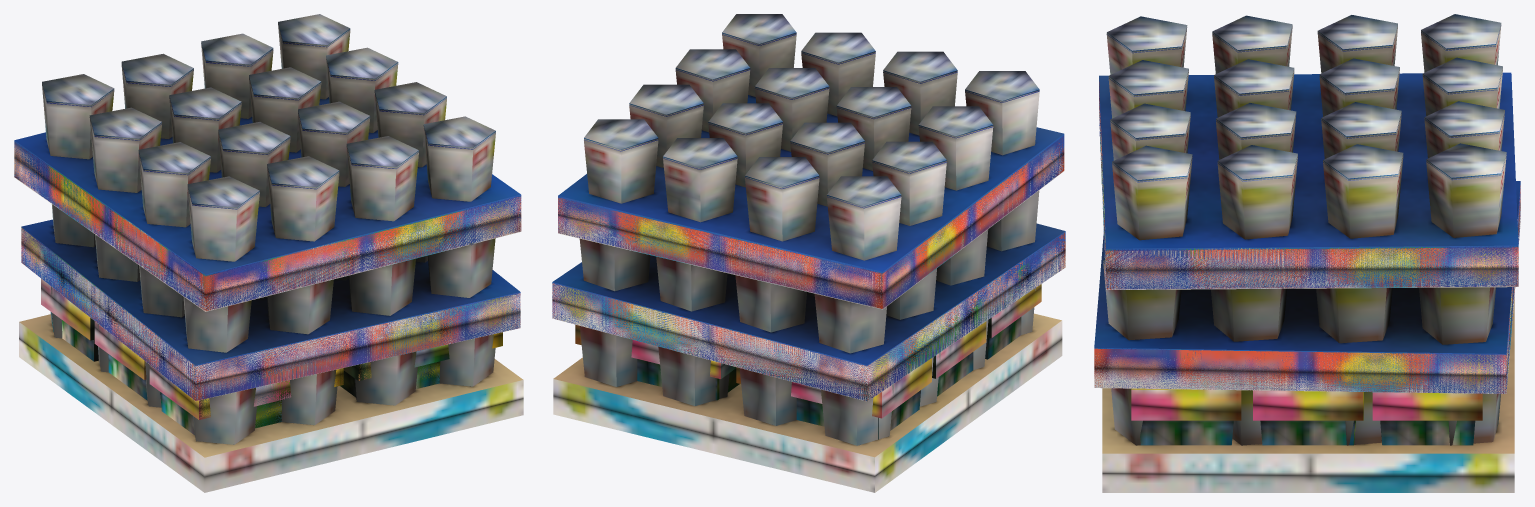
File: molkeprodukte_01.fbx
3 views of the same model, side by side, from view 1: azimuth 30°, elevation 25°; view 2: azimuth 150°, elevation 25°; view 3: azimuth 270°, elevation 25° (orthographic). The views are drawn at different scales.
Visible parts, largest first — view 1: molkedrink_01b, molkedrink_04b, molkedrink_02b, molkedrink_01a, molkedrink_03b, molkedrink_08b, molkedrink_06b, molkedrink_09b; view 2: molkedrink_01b, molkedrink_04b, molkedrink_02b, molkedrink_01a, molkedrink_03b, molkedrink_08b, molkedrink_06b, molkedrink_09b; view 3: molkedrink_04b, molkedrink_01b, molkedrink_02b, molkedrink_01a, molkedrink_08b, molkedrink_03b, molkedrink_06b.
Part boxes in pixels (<box>): molkedrink_01b: <box>14,24,521,444</box>; molkedrink_04b: <box>14,14,521,398</box>; molkedrink_02b: <box>14,42,521,400</box>; molkedrink_01a: <box>19,314,523,492</box>; molkedrink_03b: <box>14,30,521,400</box>; molkedrink_08b: <box>41,278,439,435</box>; molkedrink_06b: <box>21,23,520,400</box>; molkedrink_09b: <box>90,318,502,428</box>; molkedrink_01b: <box>552,35,1065,445</box>; molkedrink_04b: <box>552,14,1065,398</box>; molkedrink_02b: <box>552,102,1065,400</box>; molkedrink_01a: <box>553,313,1062,492</box>; molkedrink_03b: <box>558,34,1065,401</box>; molkedrink_08b: <box>575,284,1041,439</box>; molkedrink_06b: <box>560,33,1064,400</box>; molkedrink_09b: <box>717,318,991,399</box>; molkedrink_04b: <box>1094,14,1520,393</box>; molkedrink_01b: <box>1094,26,1520,445</box>; molkedrink_02b: <box>1094,26,1520,393</box>; molkedrink_01a: <box>1102,297,1514,492</box>; molkedrink_08b: <box>1131,389,1482,445</box>; molkedrink_03b: <box>1095,25,1519,392</box>; molkedrink_06b: <box>1096,24,1520,392</box>.
Size of the model in its own units: 56.82 by 45.36 by 57.23.
